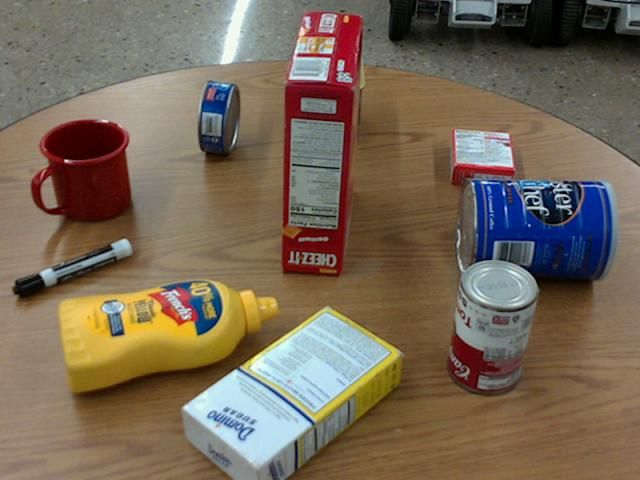cracker_box: (283, 10, 364, 272)
gelatin_box: (449, 127, 515, 186)
large_marker: (13, 237, 131, 296)
master_chef_can: (457, 176, 619, 278)
mug: (35, 119, 130, 221)
mustard_bottle: (57, 277, 277, 392)
potted_meat_can: (315, 51, 364, 147)
sugar_box: (179, 305, 401, 479)
tomato_soup_can: (449, 256, 538, 392)
tuna_fish_can: (196, 79, 240, 153)
